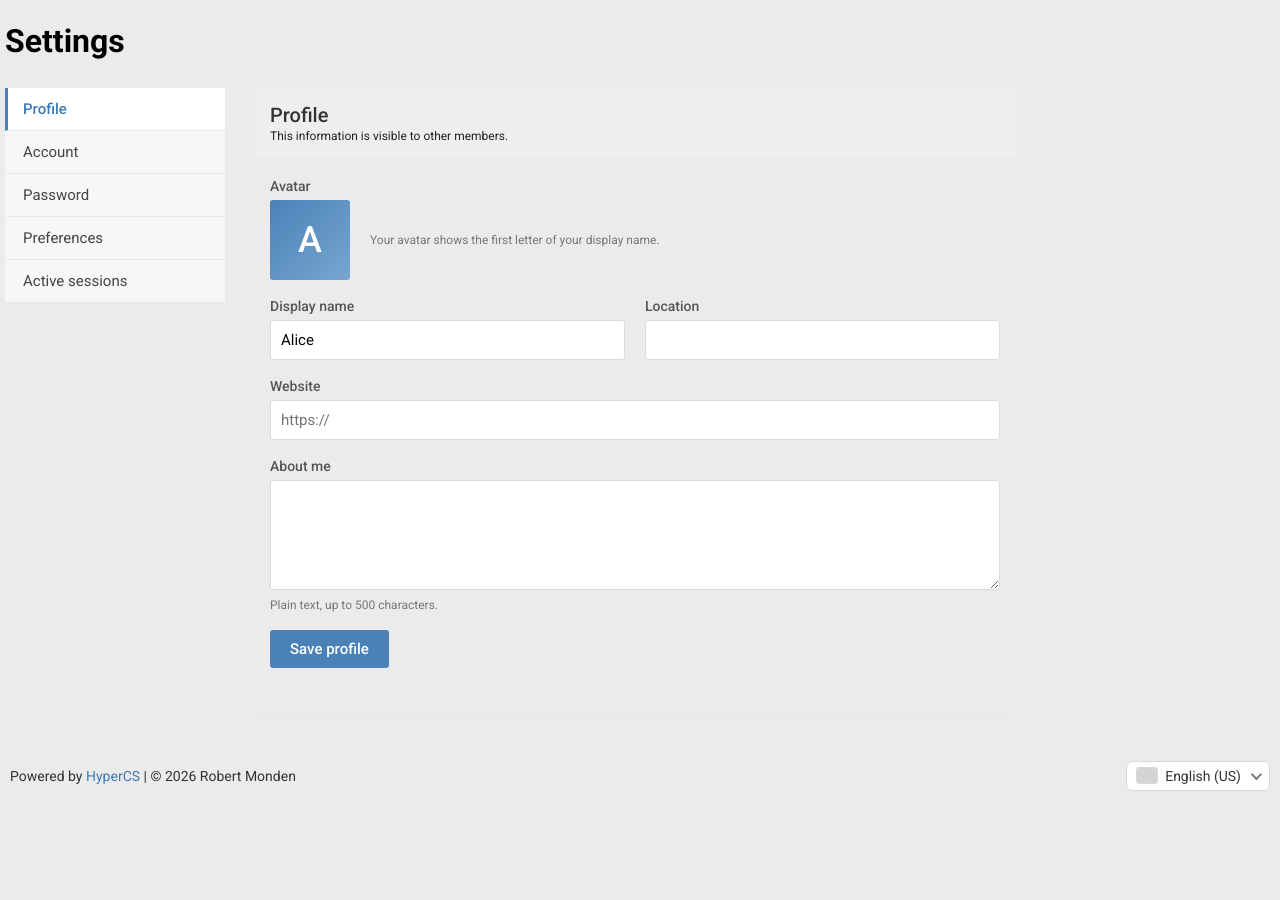
Test: the footer switcher updates the Preferences dropdown
Expected: the field labelled "Display name" is shown, [270,320,625,360]
Click the link "Preferences" at coordinates (115, 238), box [5,217,225,260]
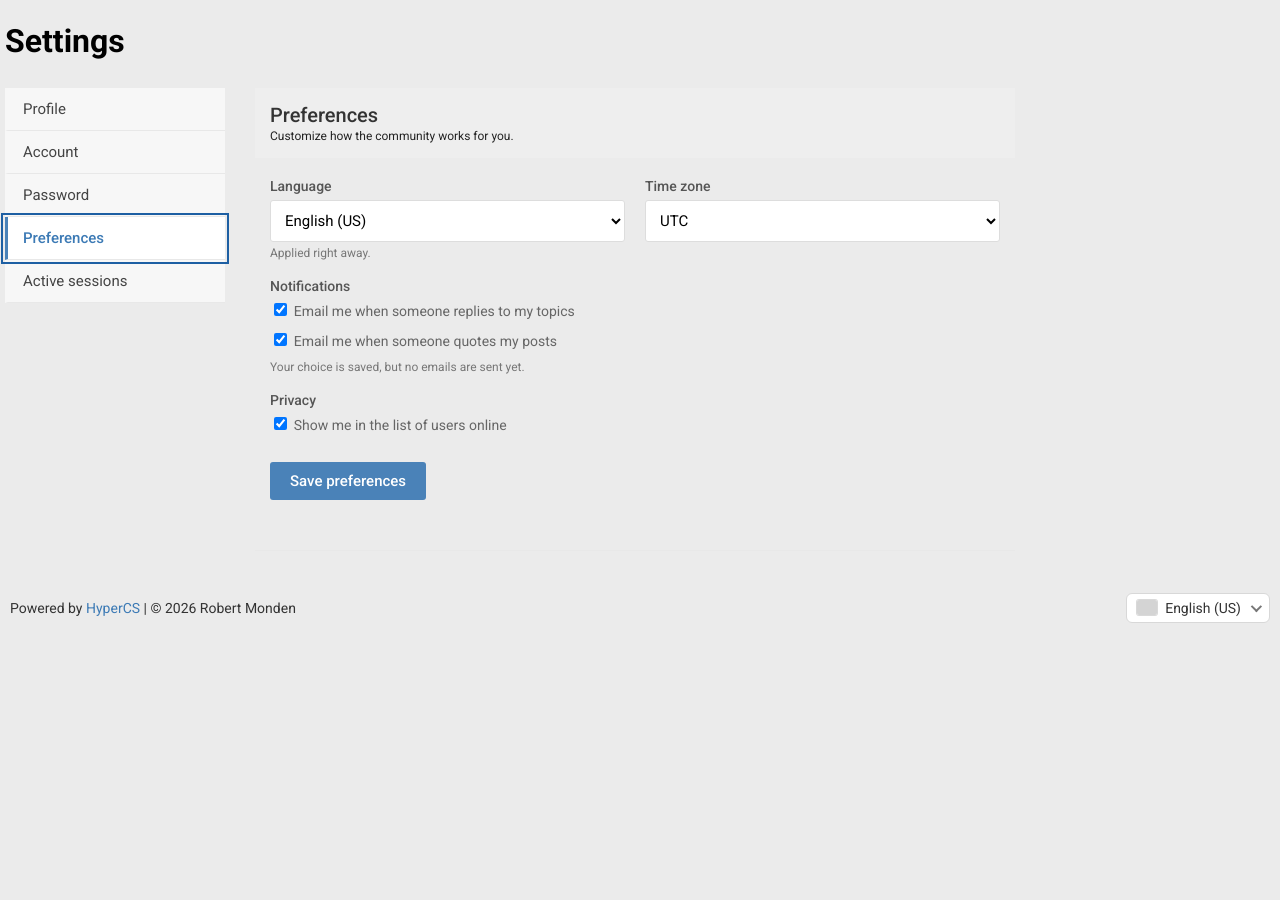
Expected: the dropdown labelled "Language" shows "English (US)", [270,200,625,242]
Click the button with aria-label "Language: English" at coordinates (1198, 608), box [1126,593,1270,623]
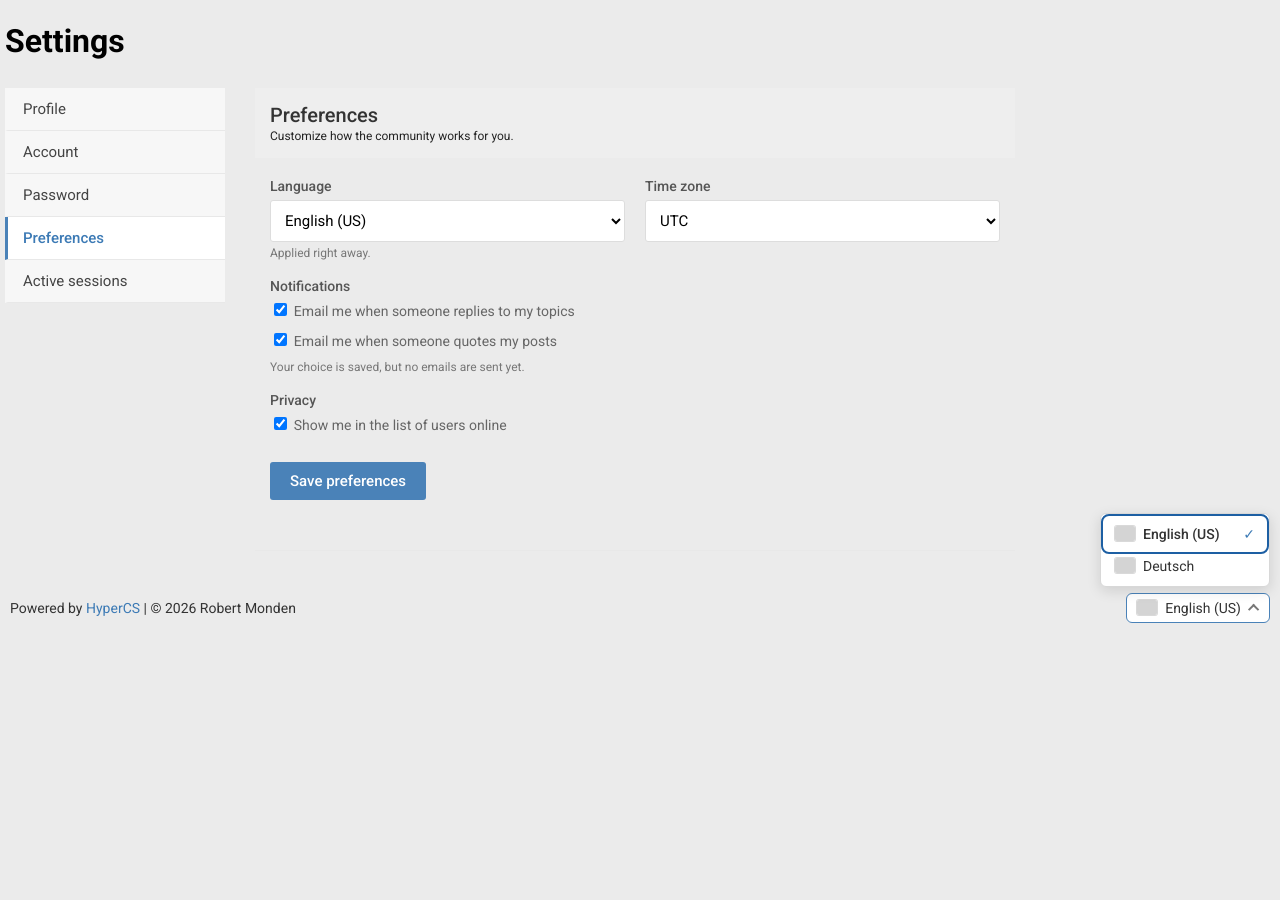
Click the menu item "Deutsch" at coordinates (1185, 566), box [1105,550,1265,582]
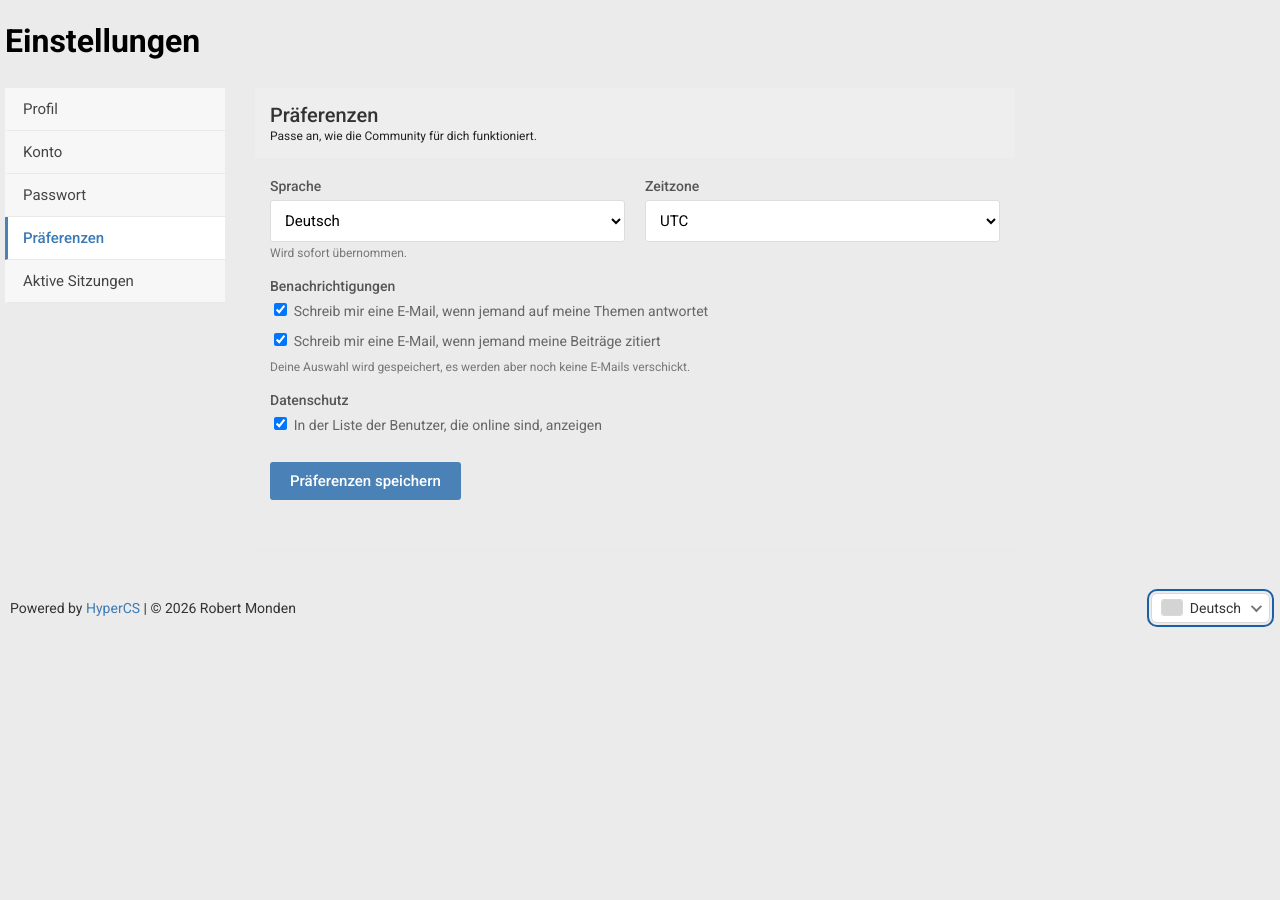
Expected: the dropdown labelled "Sprache" shows "Deutsch", [270,200,625,242]
